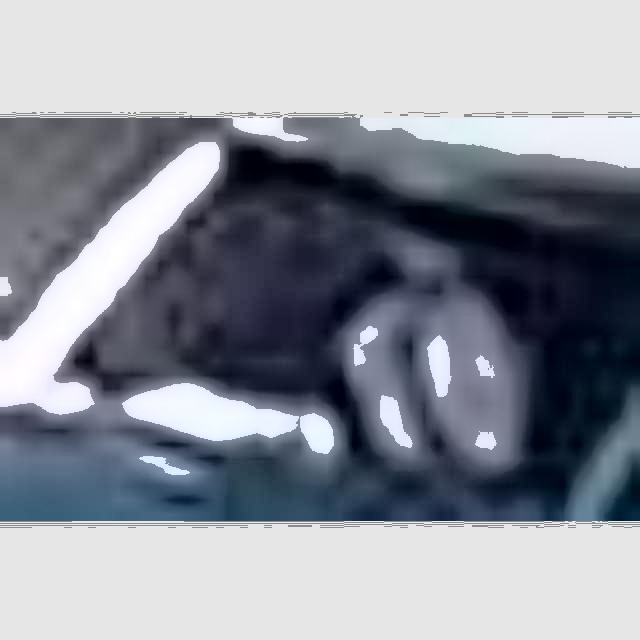pakai: (237, 201, 515, 452)
